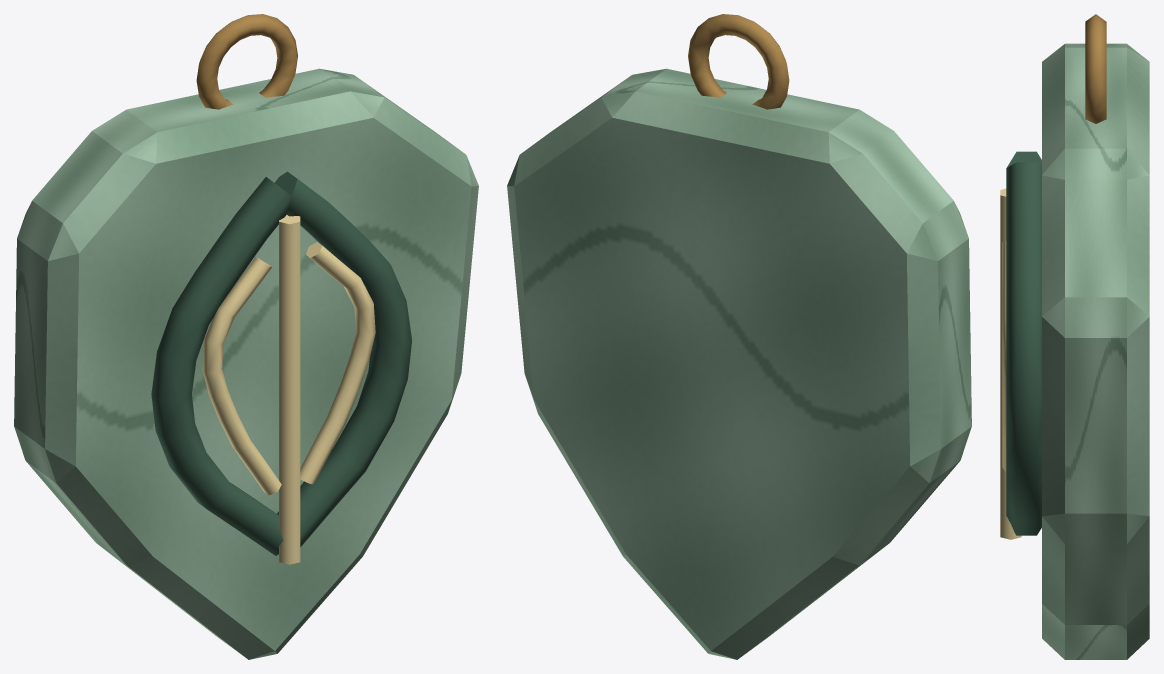
Rendered from vitality_seal_2.obj.
3 renders of one model, left to right at view 1: azimuth 30°, elevation 25°; view 2: azimuth 150°, elevation 25°; view 3: azimuth 270°, elevation 25°, orthographic.
Visible parts, largest first — view 1: A_CarvedStoneShield.001_vitality_seal_2_stone, B_IncisedLeaf-1.001_vitality_seal_2_incised_channel, B_IncisedLeaf1.001_vitality_seal_2_incised_channel, D_CentralVein.001_vitality_seal_2_vein_inlay, C_IvoryVein1.001_vitality_seal_2_vein_inlay, C_IvoryVein-1.001_vitality_seal_2_vein_inlay, E_SuspensionEye.001_vitality_seal_2_mount; view 2: A_CarvedStoneShield.001_vitality_seal_2_stone, E_SuspensionEye.001_vitality_seal_2_mount; view 3: A_CarvedStoneShield.001_vitality_seal_2_stone, B_IncisedLeaf1.001_vitality_seal_2_incised_channel, E_SuspensionEye.001_vitality_seal_2_mount, D_CentralVein.001_vitality_seal_2_vein_inlay, C_IvoryVein1.001_vitality_seal_2_vein_inlay, B_IncisedLeaf-1.001_vitality_seal_2_incised_channel.
Part boxes in pixels (x1,y1,x2,y2): A_CarvedStoneShield.001_vitality_seal_2_stone: (14, 68, 478, 659); B_IncisedLeaf-1.001_vitality_seal_2_incised_channel: (151, 177, 291, 555); B_IncisedLeaf1.001_vitality_seal_2_incised_channel: (275, 171, 411, 547); D_CentralVein.001_vitality_seal_2_vein_inlay: (279, 215, 300, 564); C_IvoryVein1.001_vitality_seal_2_vein_inlay: (300, 242, 375, 484); C_IvoryVein-1.001_vitality_seal_2_vein_inlay: (202, 257, 281, 495); E_SuspensionEye.001_vitality_seal_2_mount: (196, 14, 297, 109); A_CarvedStoneShield.001_vitality_seal_2_stone: (507, 68, 971, 659); E_SuspensionEye.001_vitality_seal_2_mount: (688, 14, 789, 109); A_CarvedStoneShield.001_vitality_seal_2_stone: (1042, 43, 1149, 659); B_IncisedLeaf1.001_vitality_seal_2_incised_channel: (1006, 162, 1041, 535); E_SuspensionEye.001_vitality_seal_2_mount: (1085, 14, 1106, 123); D_CentralVein.001_vitality_seal_2_vein_inlay: (1000, 188, 1021, 539); C_IvoryVein1.001_vitality_seal_2_vein_inlay: (1002, 241, 1006, 472); B_IncisedLeaf-1.001_vitality_seal_2_incised_channel: (1007, 151, 1041, 167).
Bounding box in the file's own units: 1.21 × 1.69 × 0.361.
Materials: 4 (1 with a texture image).
